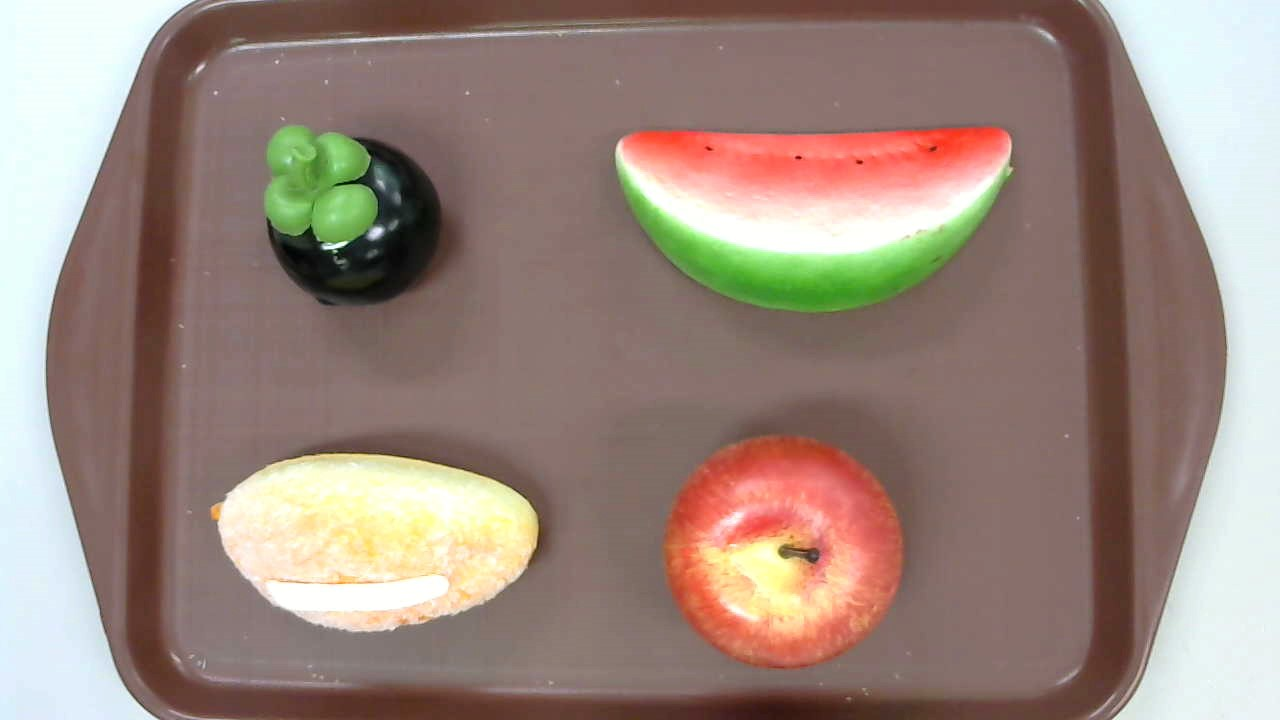coconut: (209, 453, 540, 633)
mangosteen: (264, 125, 443, 309)
red apple: (663, 435, 905, 669)
water melon: (615, 124, 1016, 315)
